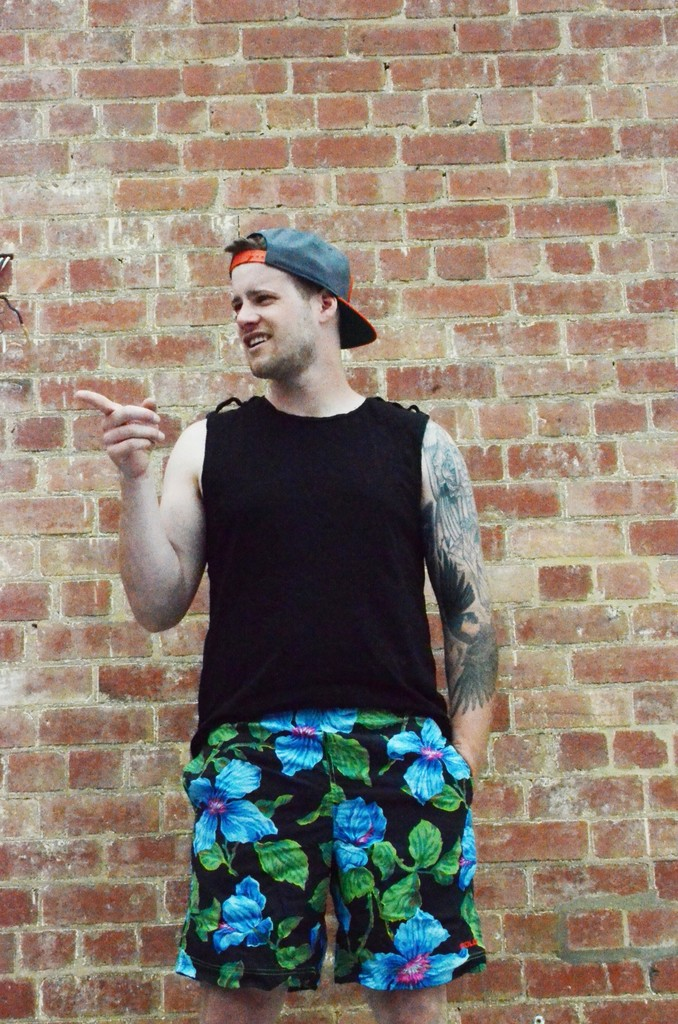hats: (220, 228, 379, 382)
